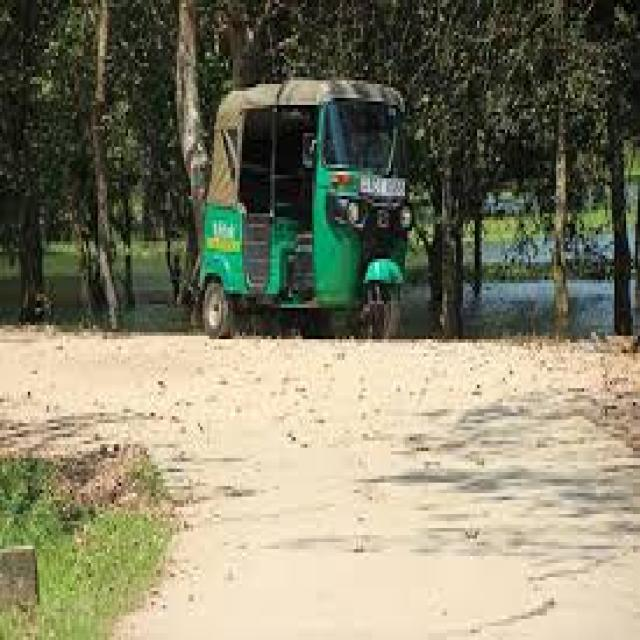tuktuk: (173, 49, 438, 402)
